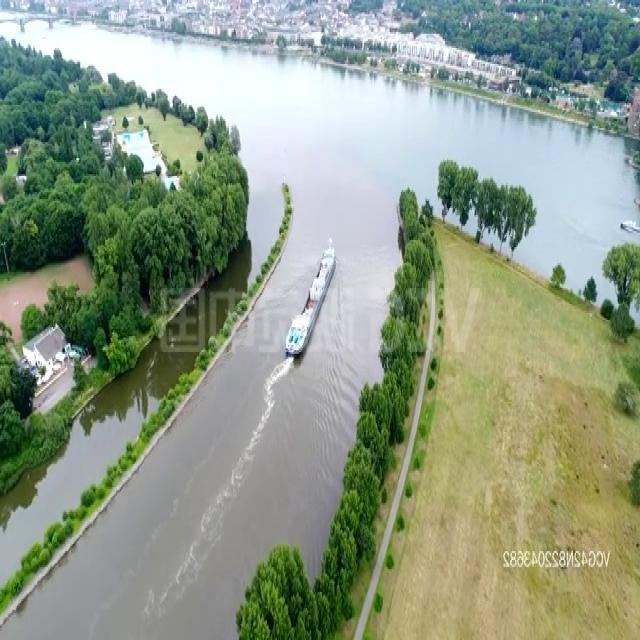cargoship: (286, 239, 338, 359)
houseboat: (619, 213, 640, 232)
